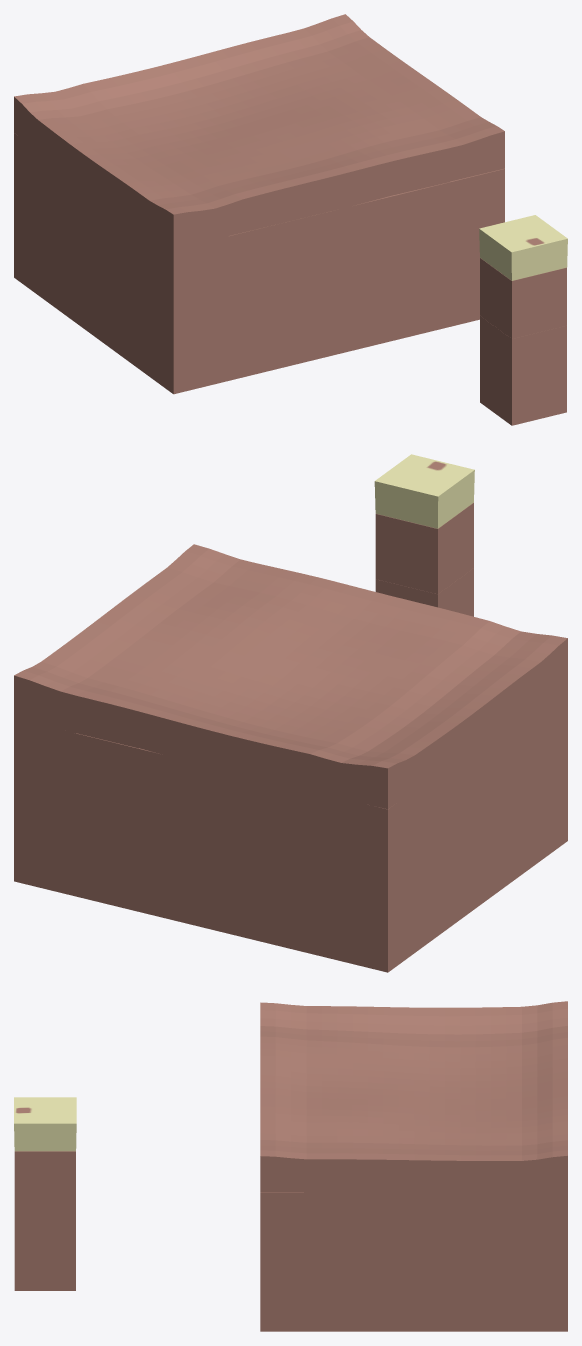
The model's file is crops.glb.
3 renders of one model, top to bottom at view 1: azimuth 30°, elevation 25°; view 2: azimuth 150°, elevation 25°; view 3: azimuth 270°, elevation 25°, orthographic. The views are drawn at different scales.
Parts seen in each view (by area): view 1: crop_ground_special, crop_ground.005, crop_ground.180, crop_ground.025, crop_ground.020, crop_ground.010, crop_ground.015, crop_ground.001, crop_ground.154, crop_ground.064, crop_ground.124, crop_ground.094 (+74 smaller); view 2: crop_ground_special, crop_ground.001, crop_ground.026, crop_ground.021, crop_ground.016, crop_ground.011, crop_ground.006, crop_ground.005, crop_ground.004, crop_ground.003, crop_ground.182, crop_ground.150 (+72 smaller); view 3: crop_ground.180, crop_ground.029, crop_ground.026, crop_ground_special, crop_ground.028, crop_ground.027, crop_ground.002, crop_ground.003, crop_ground.001, crop_ground.004, crop_ground.005, crop_ground.089 (+49 smaller).
Boxes of the visible parts, <box> form: crop_ground_special: <box>479,215,567,280</box>; crop_ground.005: <box>141,185,228,249</box>; crop_ground.180: <box>418,111,504,181</box>; crop_ground.025: <box>363,127,449,194</box>; crop_ground.020: <box>308,140,394,209</box>; crop_ground.010: <box>197,171,283,235</box>; crop_ground.015: <box>252,157,339,222</box>; crop_ground.001: <box>14,88,100,155</box>; crop_ground.154: <box>141,342,228,394</box>; crop_ground.064: <box>141,256,228,307</box>; crop_ground.124: <box>141,313,228,365</box>; crop_ground.094: <box>141,284,228,336</box>; crop_ground_special: <box>374,454,474,528</box>; crop_ground.001: <box>325,742,423,809</box>; crop_ground.026: <box>14,655,111,733</box>; crop_ground.021: <box>76,676,174,748</box>; crop_ground.016: <box>138,694,236,763</box>; crop_ground.011: <box>201,712,298,780</box>; crop_ground.006: <box>263,728,360,794</box>; crop_ground.005: <box>470,626,567,703</box>; crop_ground.004: <box>434,658,531,730</box>; crop_ground.003: <box>398,688,495,757</box>; crop_ground.182: <box>375,503,473,561</box>; crop_ground.150: <box>325,914,423,972</box>; crop_ground.180: <box>260,1133,321,1192</box>; crop_ground.029: <box>322,1136,383,1192</box>; crop_ground.026: <box>506,1134,567,1192</box>; crop_ground_special: <box>14,1097,76,1151</box>; crop_ground.028: <box>383,1136,444,1192</box>; crop_ground.027: <box>445,1139,506,1192</box>; crop_ground.002: <box>445,1007,506,1041</box>; crop_ground.003: <box>383,1007,444,1040</box>; crop_ground.001: <box>506,1001,567,1039</box>; crop_ground.004: <box>322,1006,383,1038</box>; crop_ground.005: <box>260,1002,321,1035</box>; crop_ground.089: <box>260,1220,321,1248</box>.
Bounding box in the file's own units: 12 × 6.37 × 18.01.
Materials: 3 (1 with a texture image).
